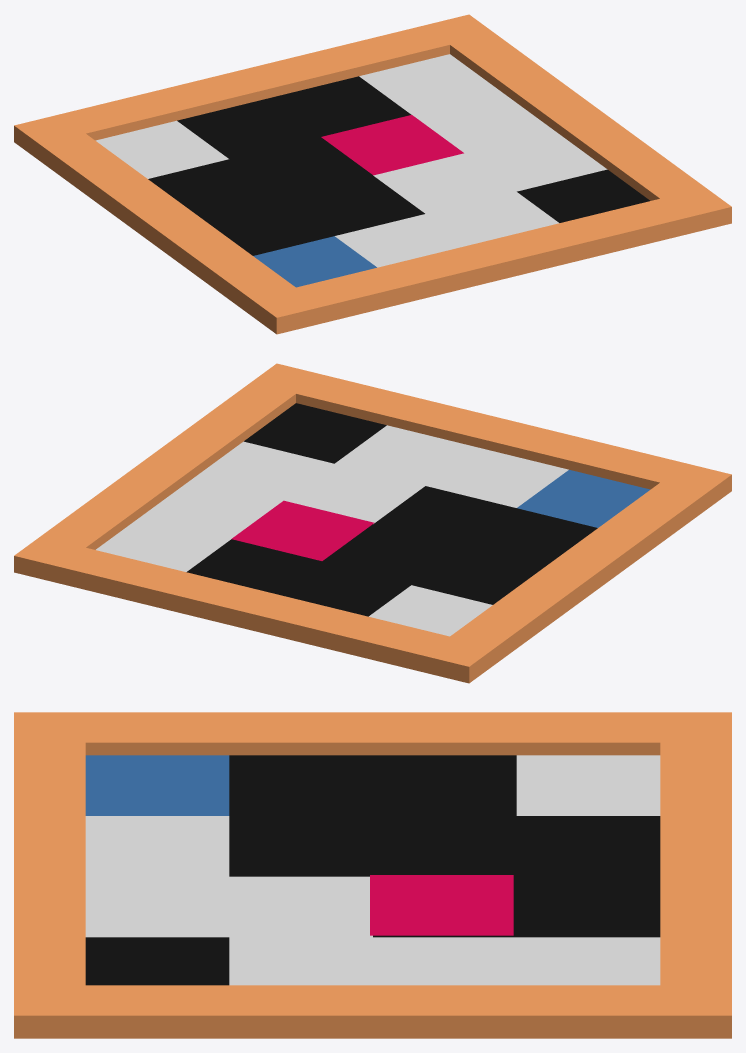
Rendered from the real 4x4.dae.
3 renders of one model, top to bottom at view 1: azimuth 30°, elevation 25°; view 2: azimuth 150°, elevation 25°; view 3: azimuth 270°, elevation 25°, orthographic. The views are drawn at different scales.
Parts seen in each view (by area): view 1: Cube, Plane.001; view 2: Cube, Plane.001; view 3: Cube, Plane.001.
Part boxes in pixels (<box>): Cube: <box>14,14,731,334</box>; Plane.001: <box>321,115,463,175</box>; Cube: <box>14,363,731,683</box>; Plane.001: <box>231,500,374,560</box>; Cube: <box>14,712,731,1038</box>; Plane.001: <box>370,875,513,935</box>.
Size of the model in its own units: 5 by 5 by 0.175.
